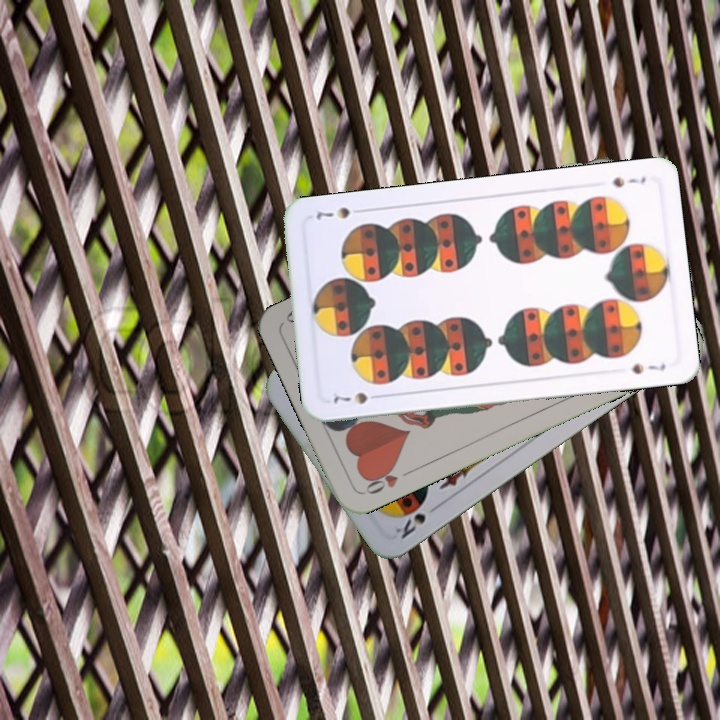HO: (360, 461, 415, 497)
S7: (329, 388, 385, 407), (609, 172, 648, 190)
SK: (391, 509, 429, 542)
